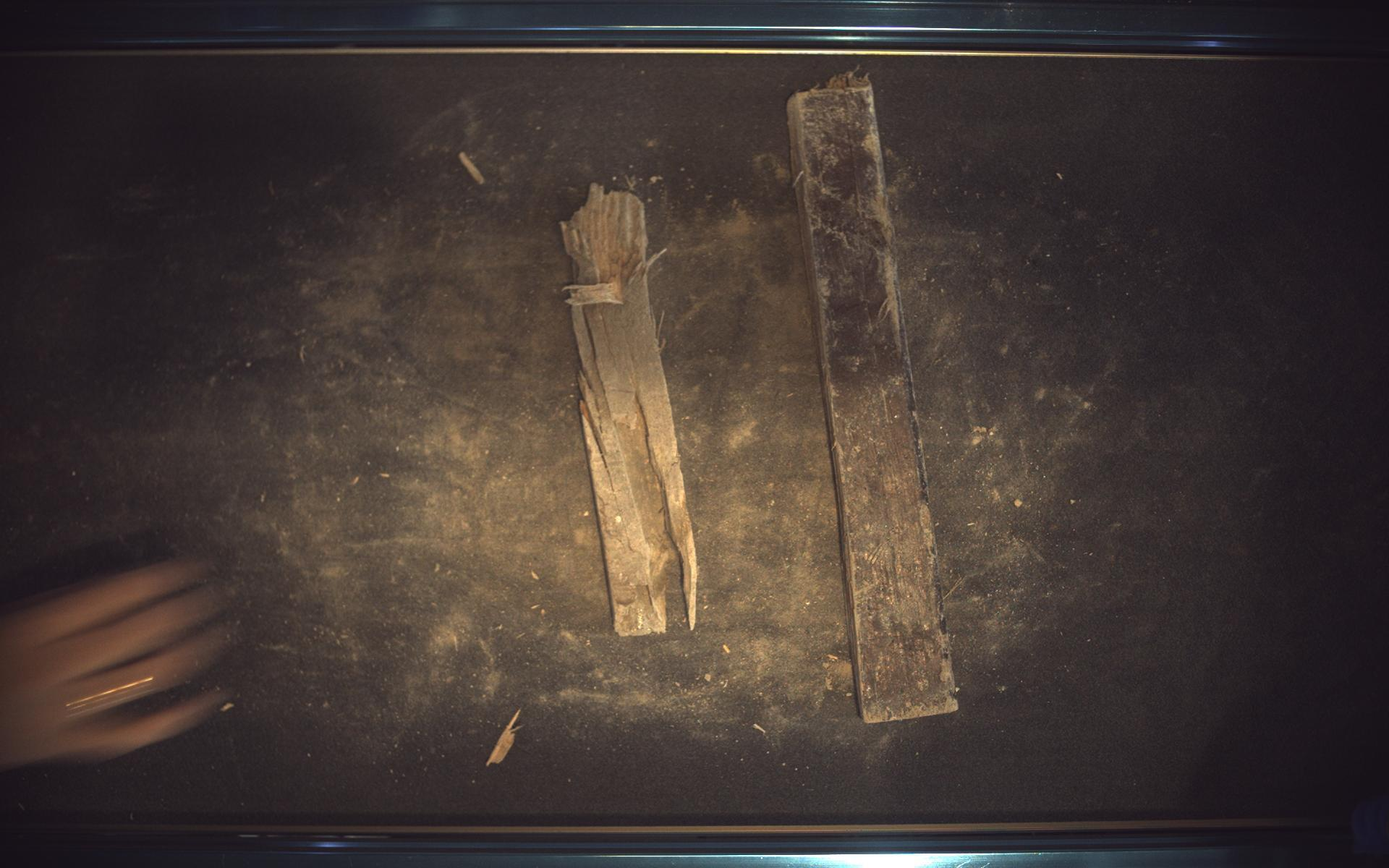wood: (789, 74, 959, 724), (561, 182, 698, 637)
